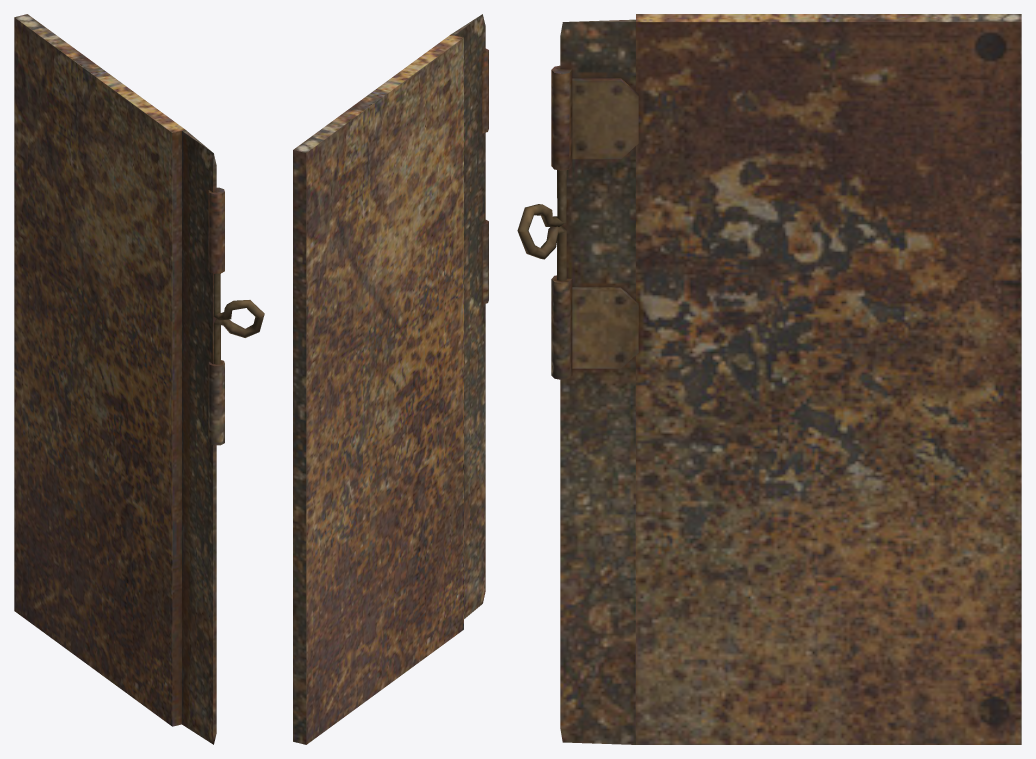
File: SM_LaternBox01DoorR.glb
3 views of the same model, side by side, from view 1: azimuth 30°, elevation 25°; view 2: azimuth 150°, elevation 25°; view 3: azimuth 270°, elevation 25° (orthographic). The views are drawn at different scales.
Parts seen in each view (by area): view 1: SM_LaternBox01DoorR; view 2: SM_LaternBox01DoorR; view 3: SM_LaternBox01DoorR.
Boxes of the visible parts, box(x1,y1,x2,y2) form: SM_LaternBox01DoorR: box(14, 14, 264, 744); SM_LaternBox01DoorR: box(293, 14, 488, 744); SM_LaternBox01DoorR: box(517, 14, 1021, 744).
Size of the model in its own units: 0.0166 by 0.2087 by 0.1318.
Materials: 1 (1 with a texture image).
